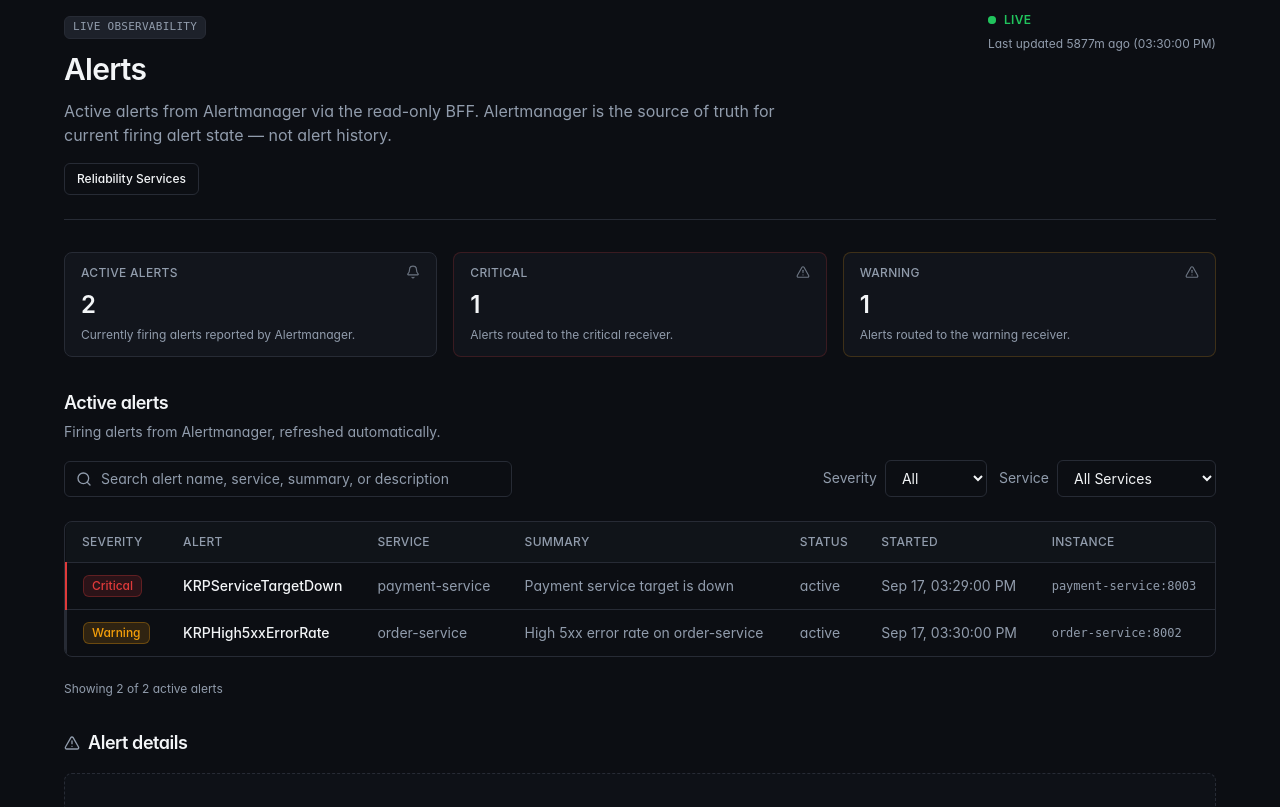
Test: AlertsPage › expands alert details when an alert is selected
This screenshot has width=1280, height=807.
Click the text "KRPServiceTargetDown".
click(264, 586)  # box 167,562 -> 361,609
(page scrolled)
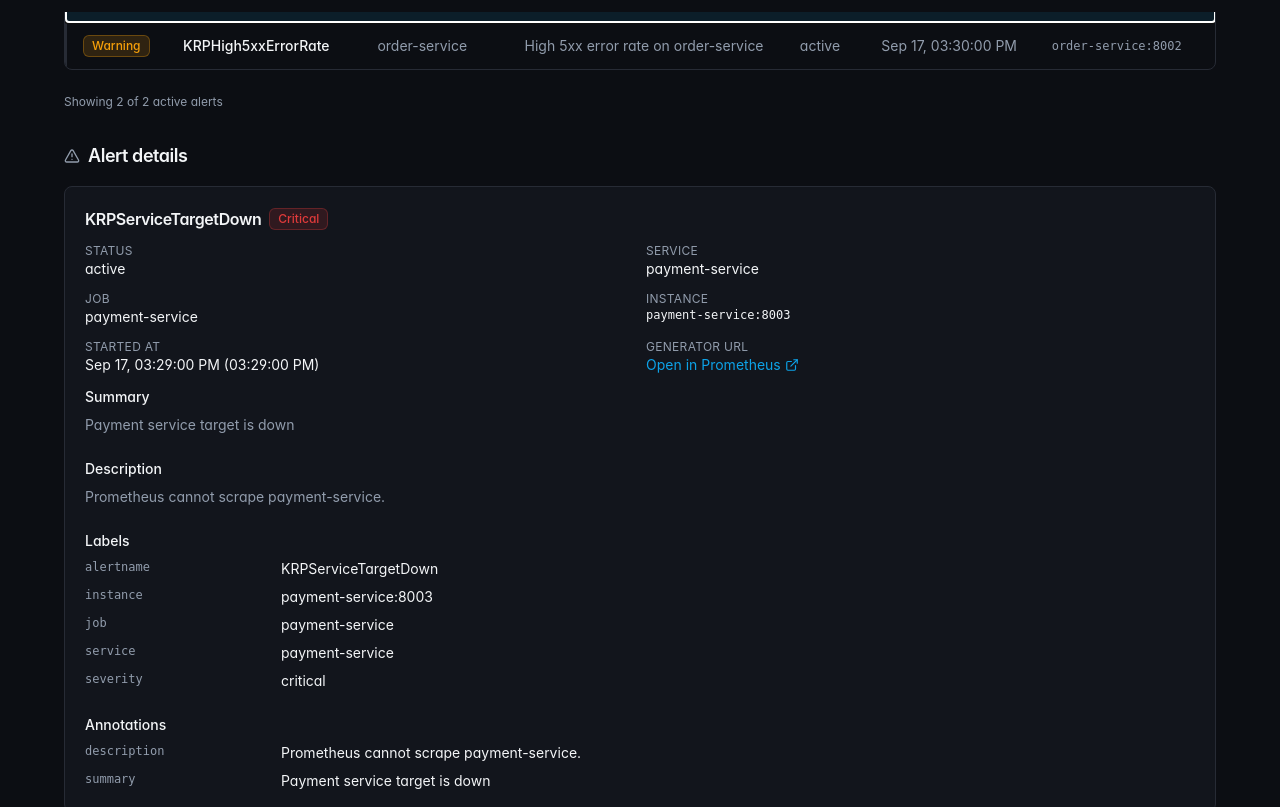
Expected: the heading "Alert details" is shown, 88,142 -> 188,170
Expected: the 1st text "Prometheus cannot scrape payment-service." is shown, 85,488 -> 385,505
